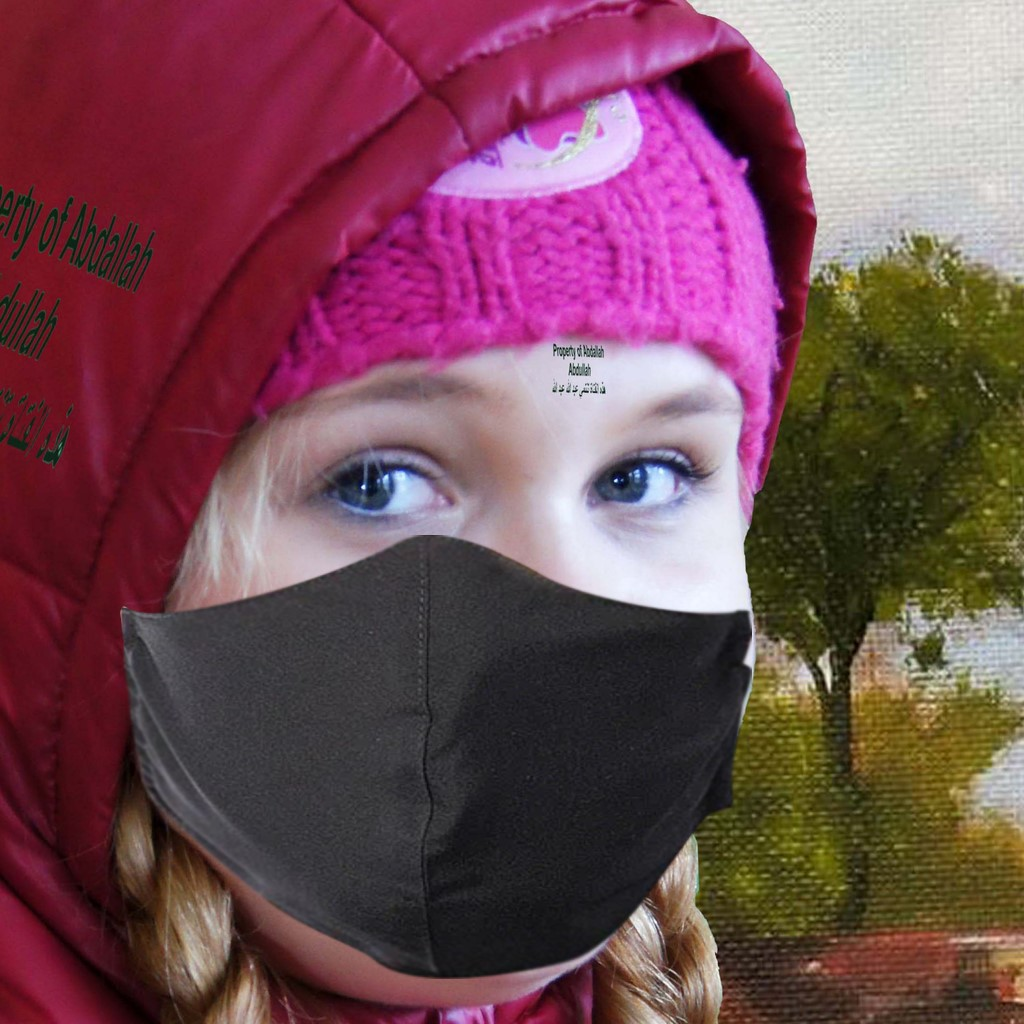con_mascara: (164, 265, 739, 995)
